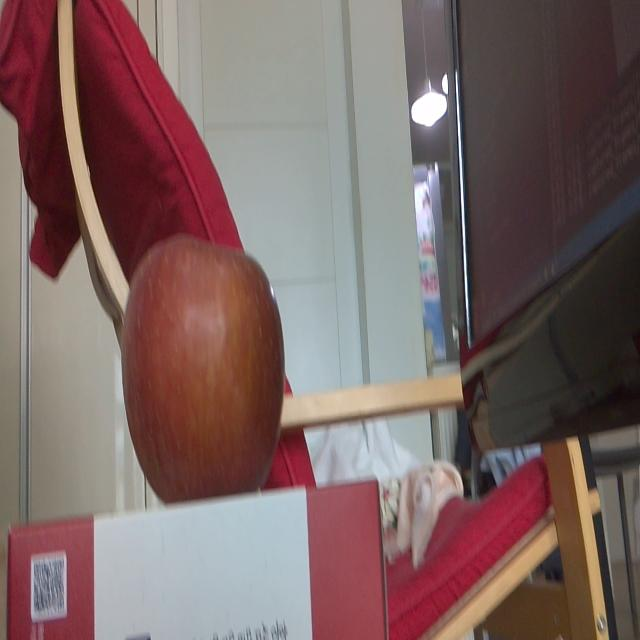apple: (121, 225, 288, 500)
